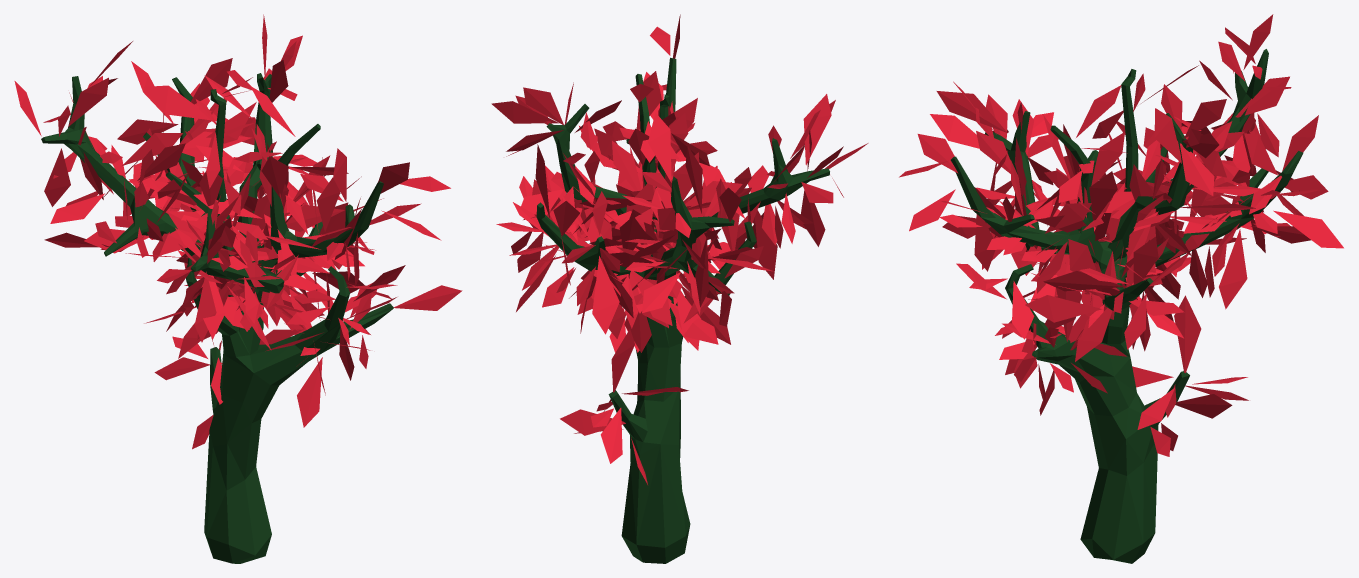
3 renders of one model, left to right at view 1: azimuth 30°, elevation 25°; view 2: azimuth 150°, elevation 25°; view 3: azimuth 270°, elevation 25°, orthographic. The views are drawn at different scales.
Visible parts, largest first — view 1: Drzewo1; view 2: Drzewo1; view 3: Drzewo1.
Part boxes in pixels (x1,y1,x2,y2): Drzewo1: (14, 14, 462, 563); Drzewo1: (491, 14, 868, 563); Drzewo1: (899, 14, 1343, 563).
Size of the model in its own units: 1604 by 2327 by 1855.
